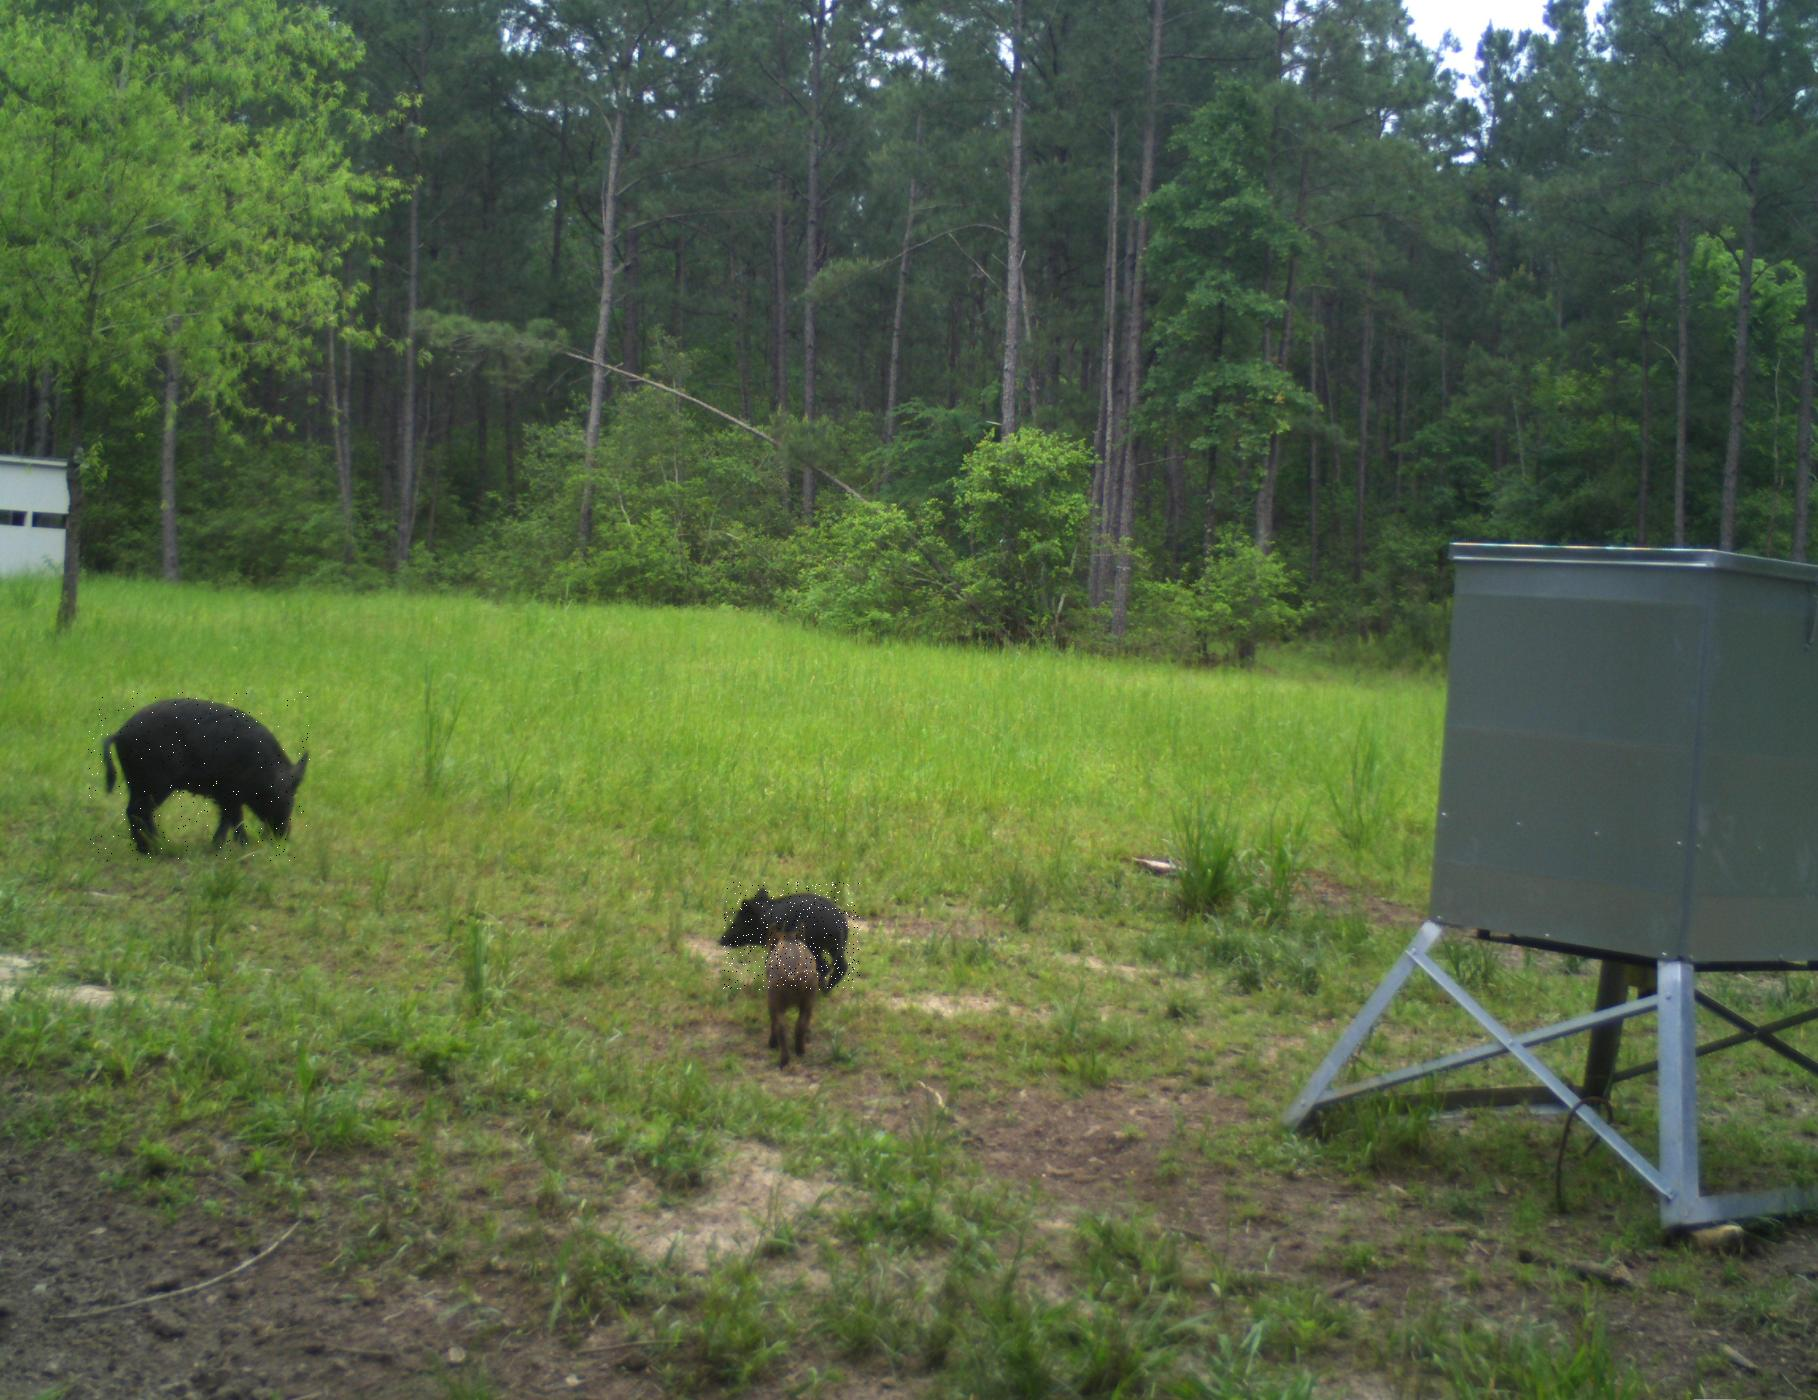Hog: (88, 690, 310, 862), (722, 882, 860, 990)
